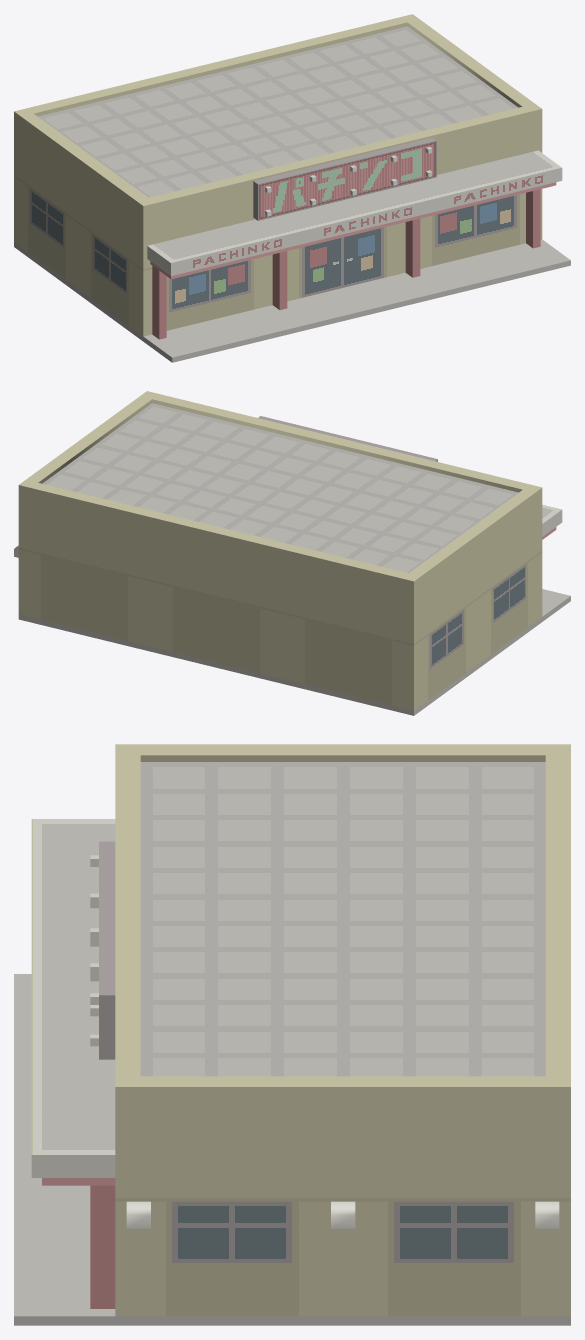
The model's file is 0552_Pachinko_Parlor.glb.
The picture shows the model from 3 angles, top to bottom: view 1: azimuth 30°, elevation 25°; view 2: azimuth 150°, elevation 25°; view 3: azimuth 270°, elevation 25°; orthographic projection. The views are drawn at different scales.
Visible parts, largest first — view 1: part_0; view 2: part_0; view 3: part_0.
Boxes of the visible parts, <box> form: part_0: <box>14,14,570,362</box>; part_0: <box>14,391,570,715</box>; part_0: <box>14,744,570,1325</box>.
Size of the model in its own units: 16.32 by 5.2 by 11.
Materials: 1 (1 with a texture image).
